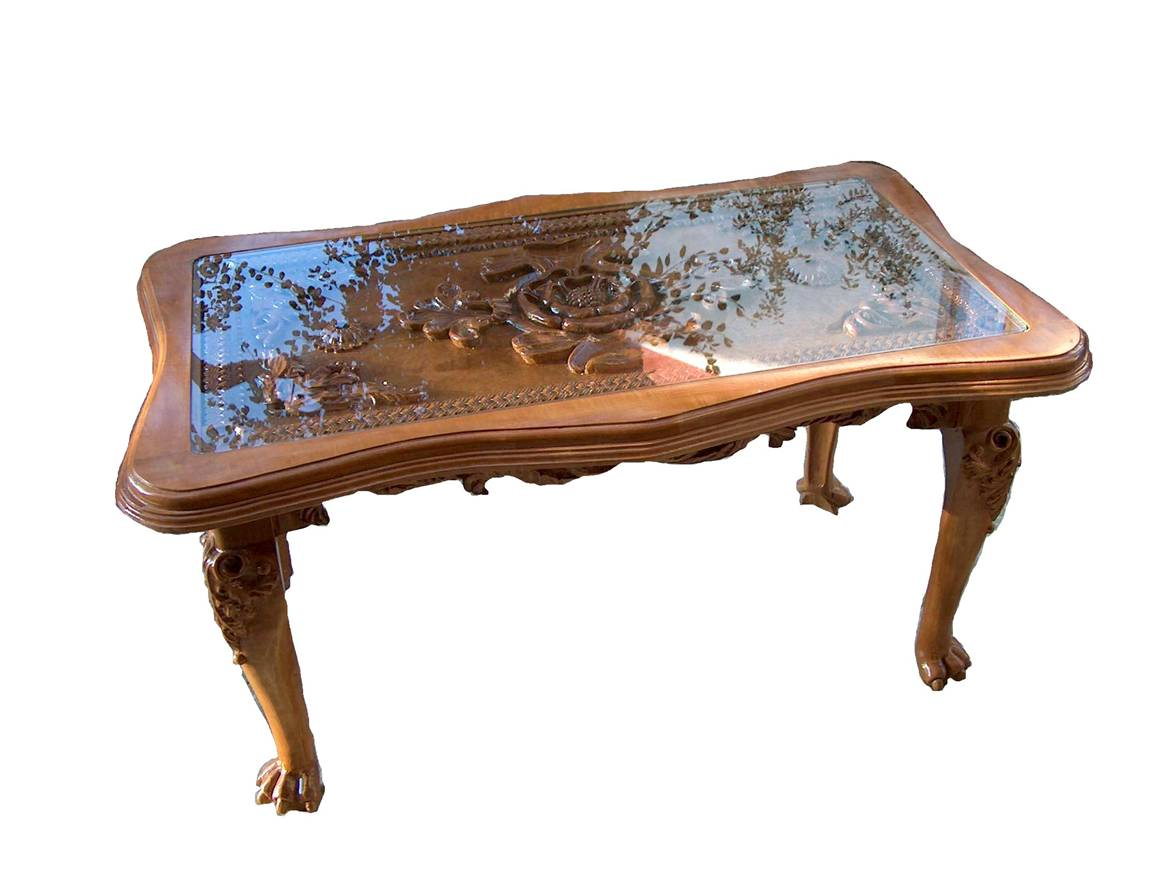Carving Table: (138, 209, 1077, 776)
